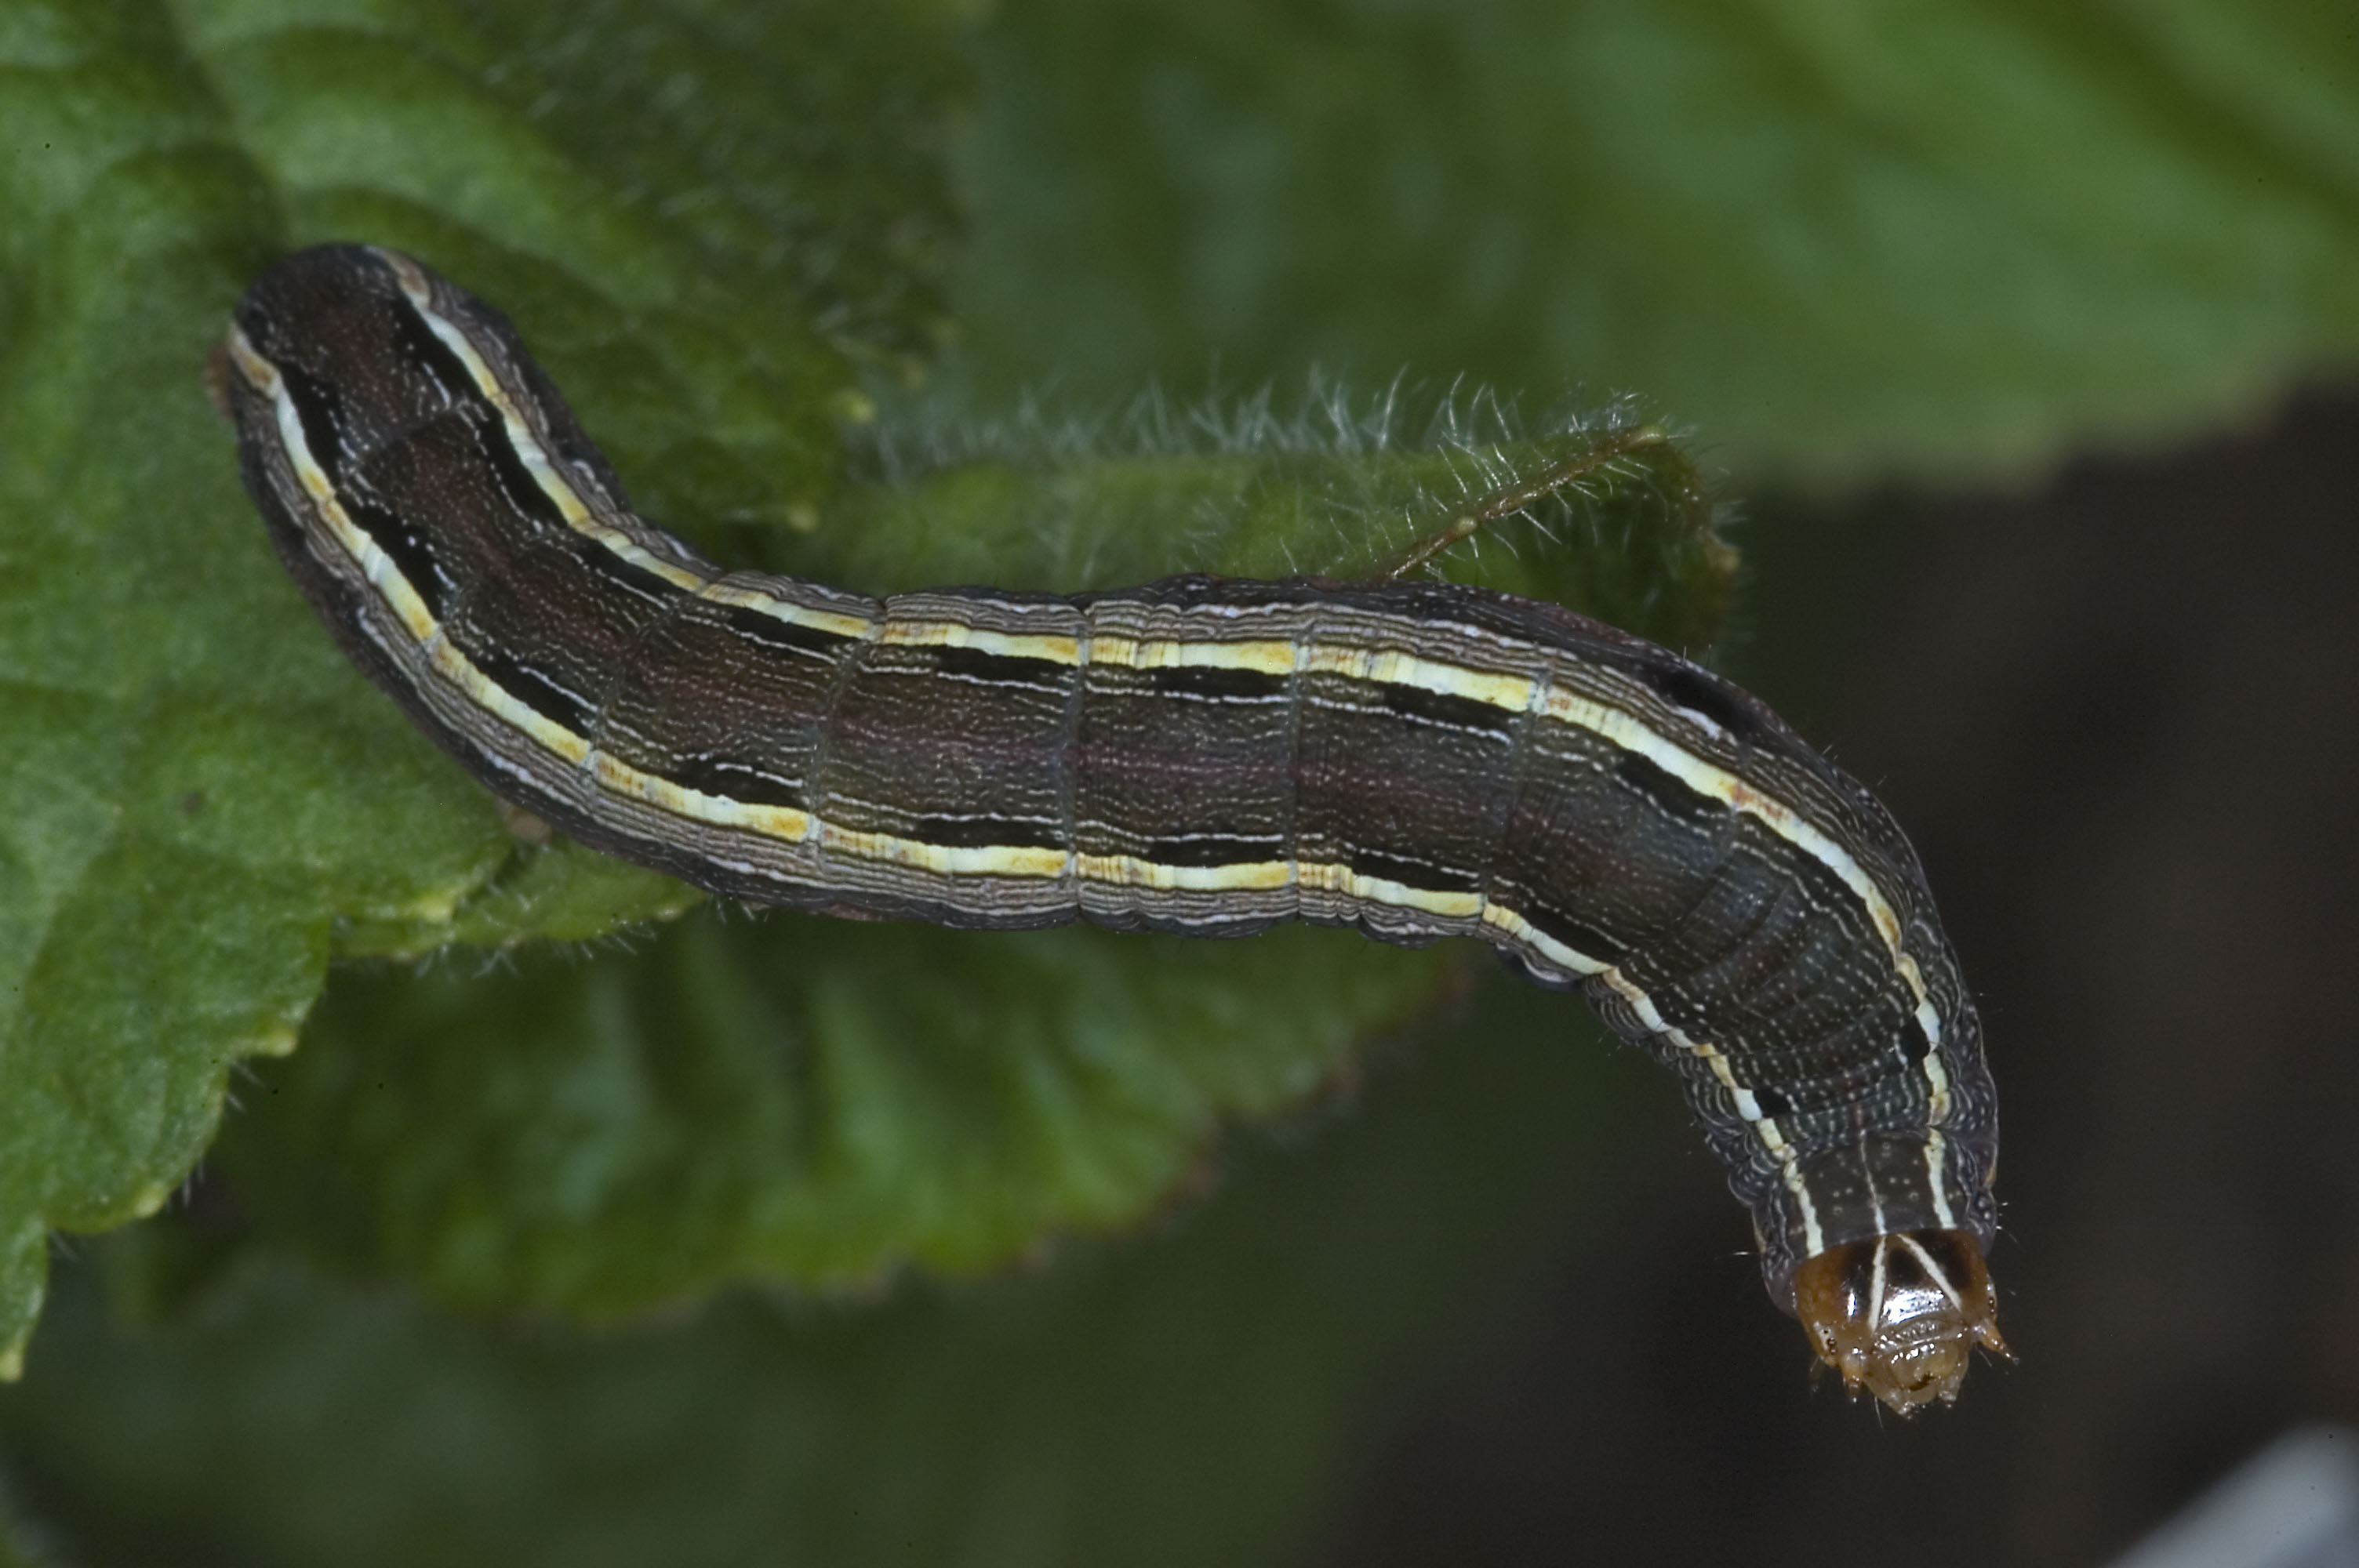Armyworm: (170, 200, 2031, 1433)
